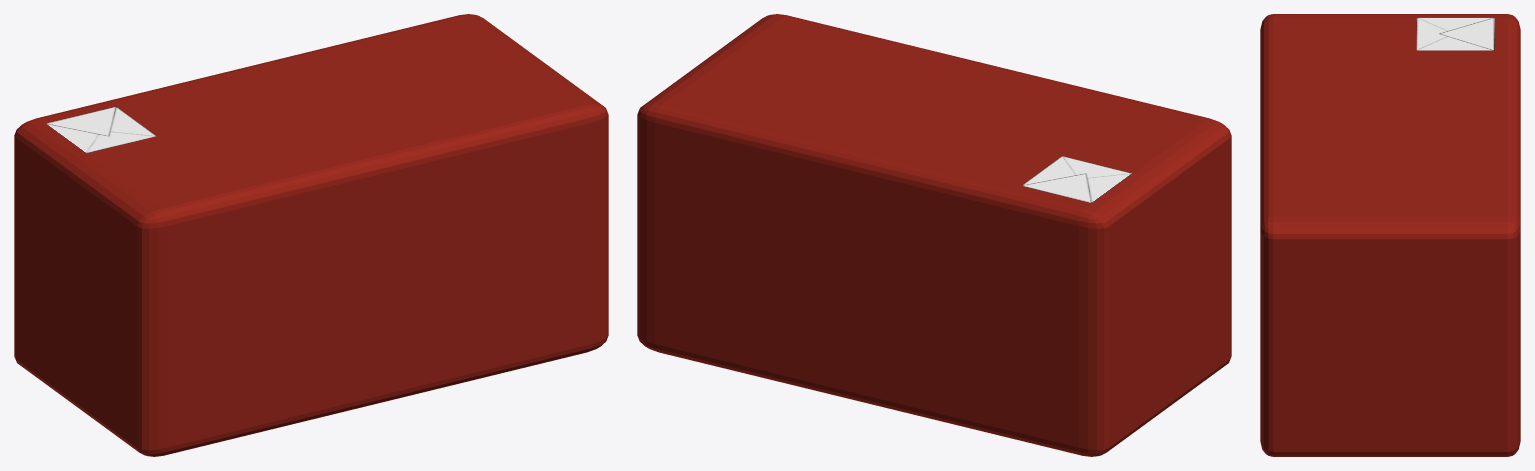
The model's file is Message_Highlight.dae.
The picture shows the model from 3 angles, left to right: view 1: azimuth 30°, elevation 25°; view 2: azimuth 150°, elevation 25°; view 3: azimuth 270°, elevation 25°; orthographic projection. The views are drawn at different scales.
Parts seen in each view (by area): view 1: Cube, Plane; view 2: Cube, Plane; view 3: Cube, Plane.
Part boxes in pixels (box(x1,y1,x2,y2)): Cube: box(14, 14, 608, 456); Plane: box(46, 106, 156, 153); Cube: box(637, 14, 1231, 456); Plane: box(1021, 156, 1131, 202); Cube: box(1260, 14, 1520, 456); Plane: box(1416, 17, 1494, 50).
Bounding box in the file's own units: 2 × 1 × 1.
Materials: 2 (1 with a texture image).
